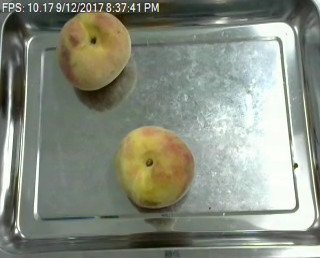Peach: (115, 125, 195, 208), (56, 7, 133, 93)
